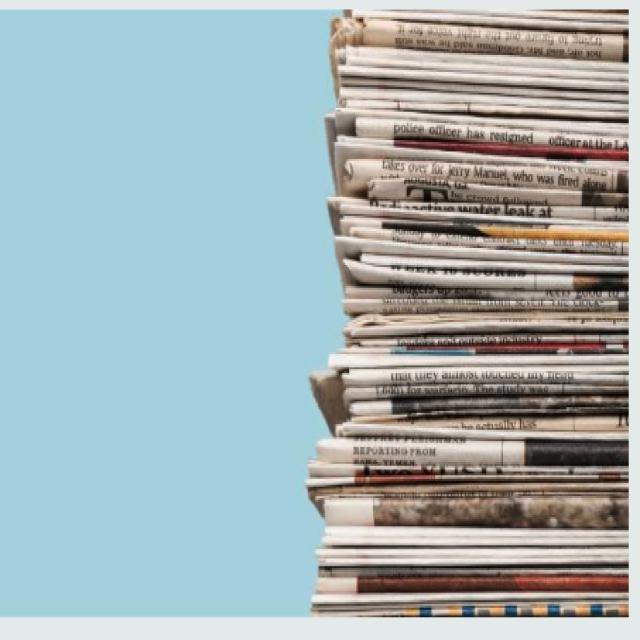Koran: (305, 8, 629, 617)
